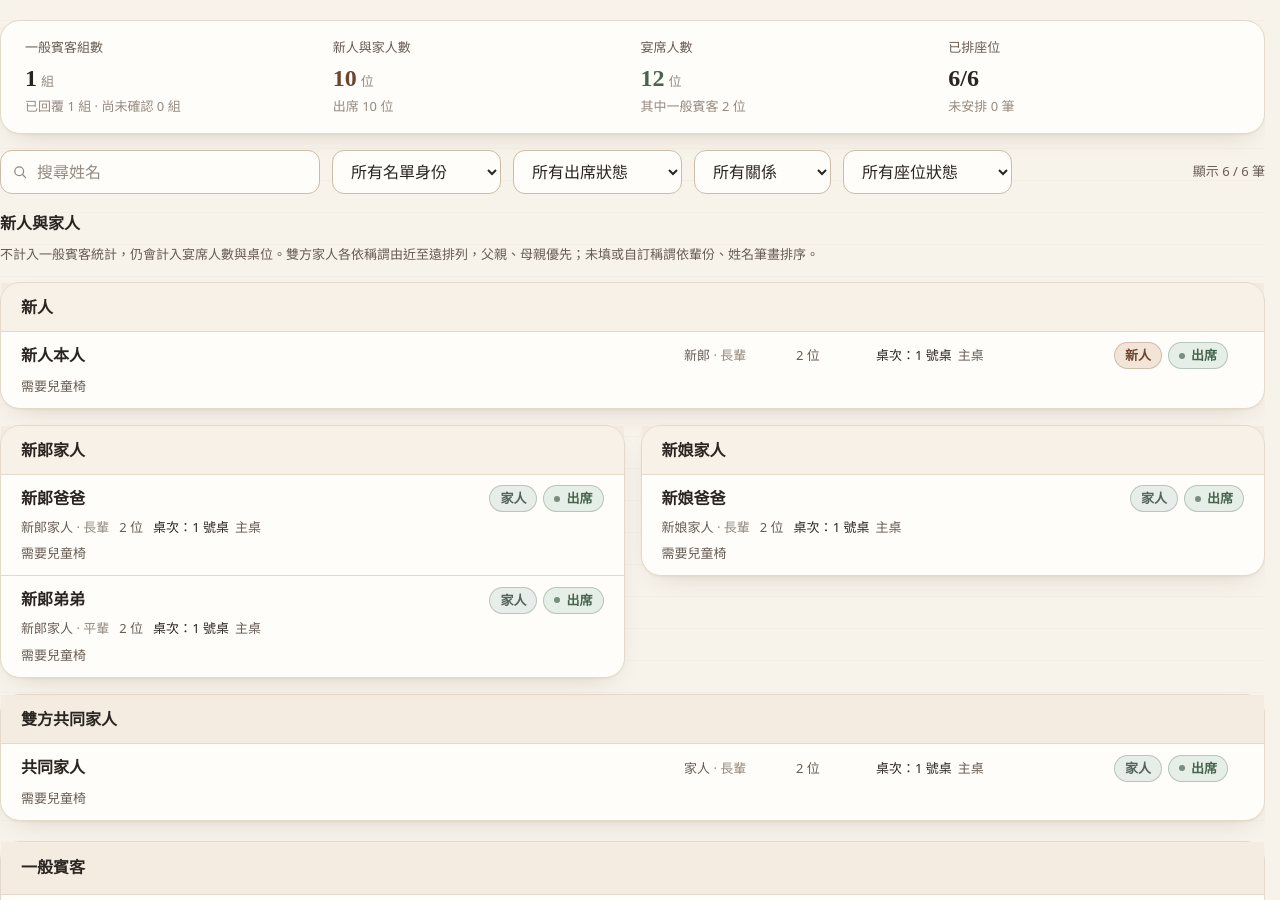
it: GuestList › separates families by partner and orders seniority within each side
Expected: the heading "新娘爸爸" is shown, x1=662 y1=490 x2=726 y2=507
Expected: the heading "共同家人" is shown, x1=21 y1=759 x2=85 y2=776
Select "女方親友" in the dropdown named "關係篩選" at (762, 172), box x1=694 y1=150 x2=831 y2=194
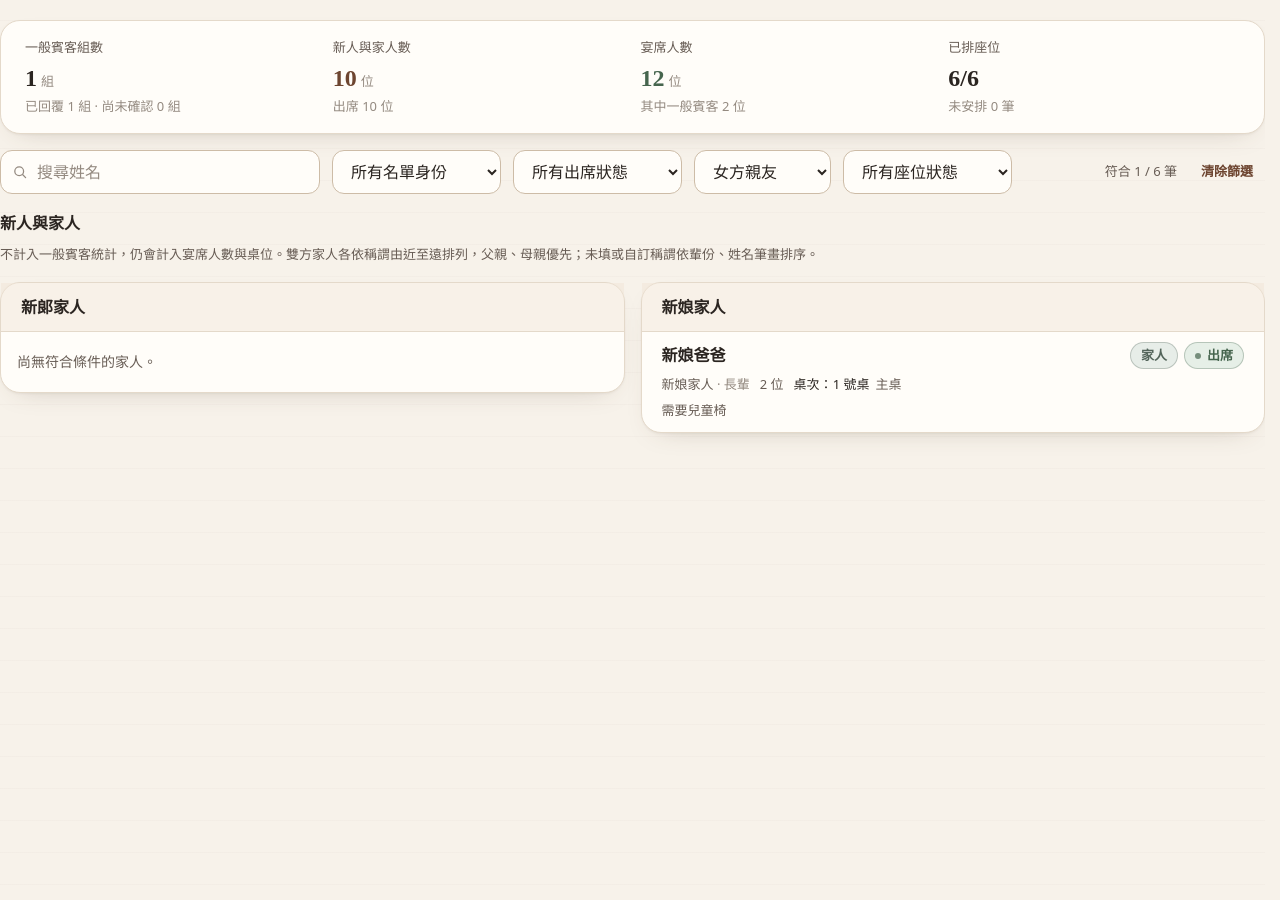
Expected: the heading "新娘爸爸" is shown, x1=662 y1=347 x2=726 y2=364
Result: the heading "新郎爸爸" is gone
